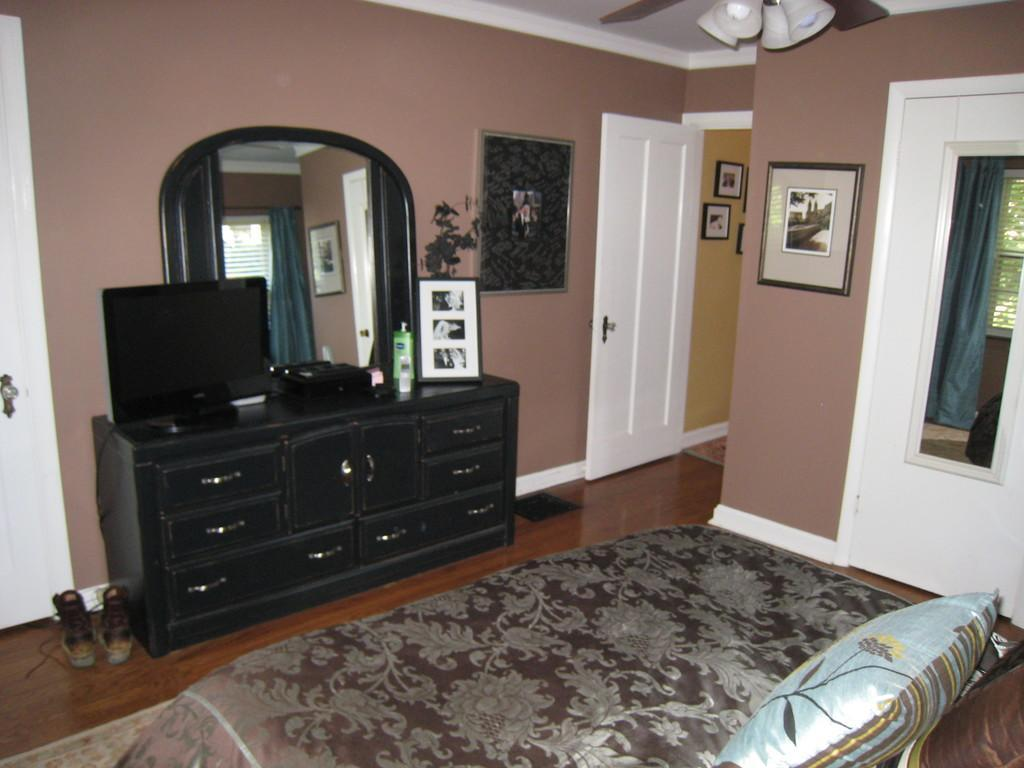door: (607, 121, 683, 444)
handle: (2, 380, 22, 410), (599, 321, 621, 339)
